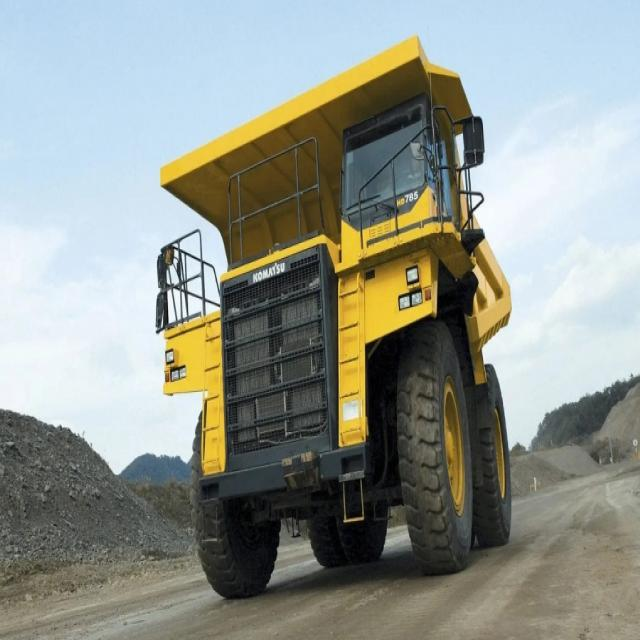dump_truck: (154, 33, 512, 597)
